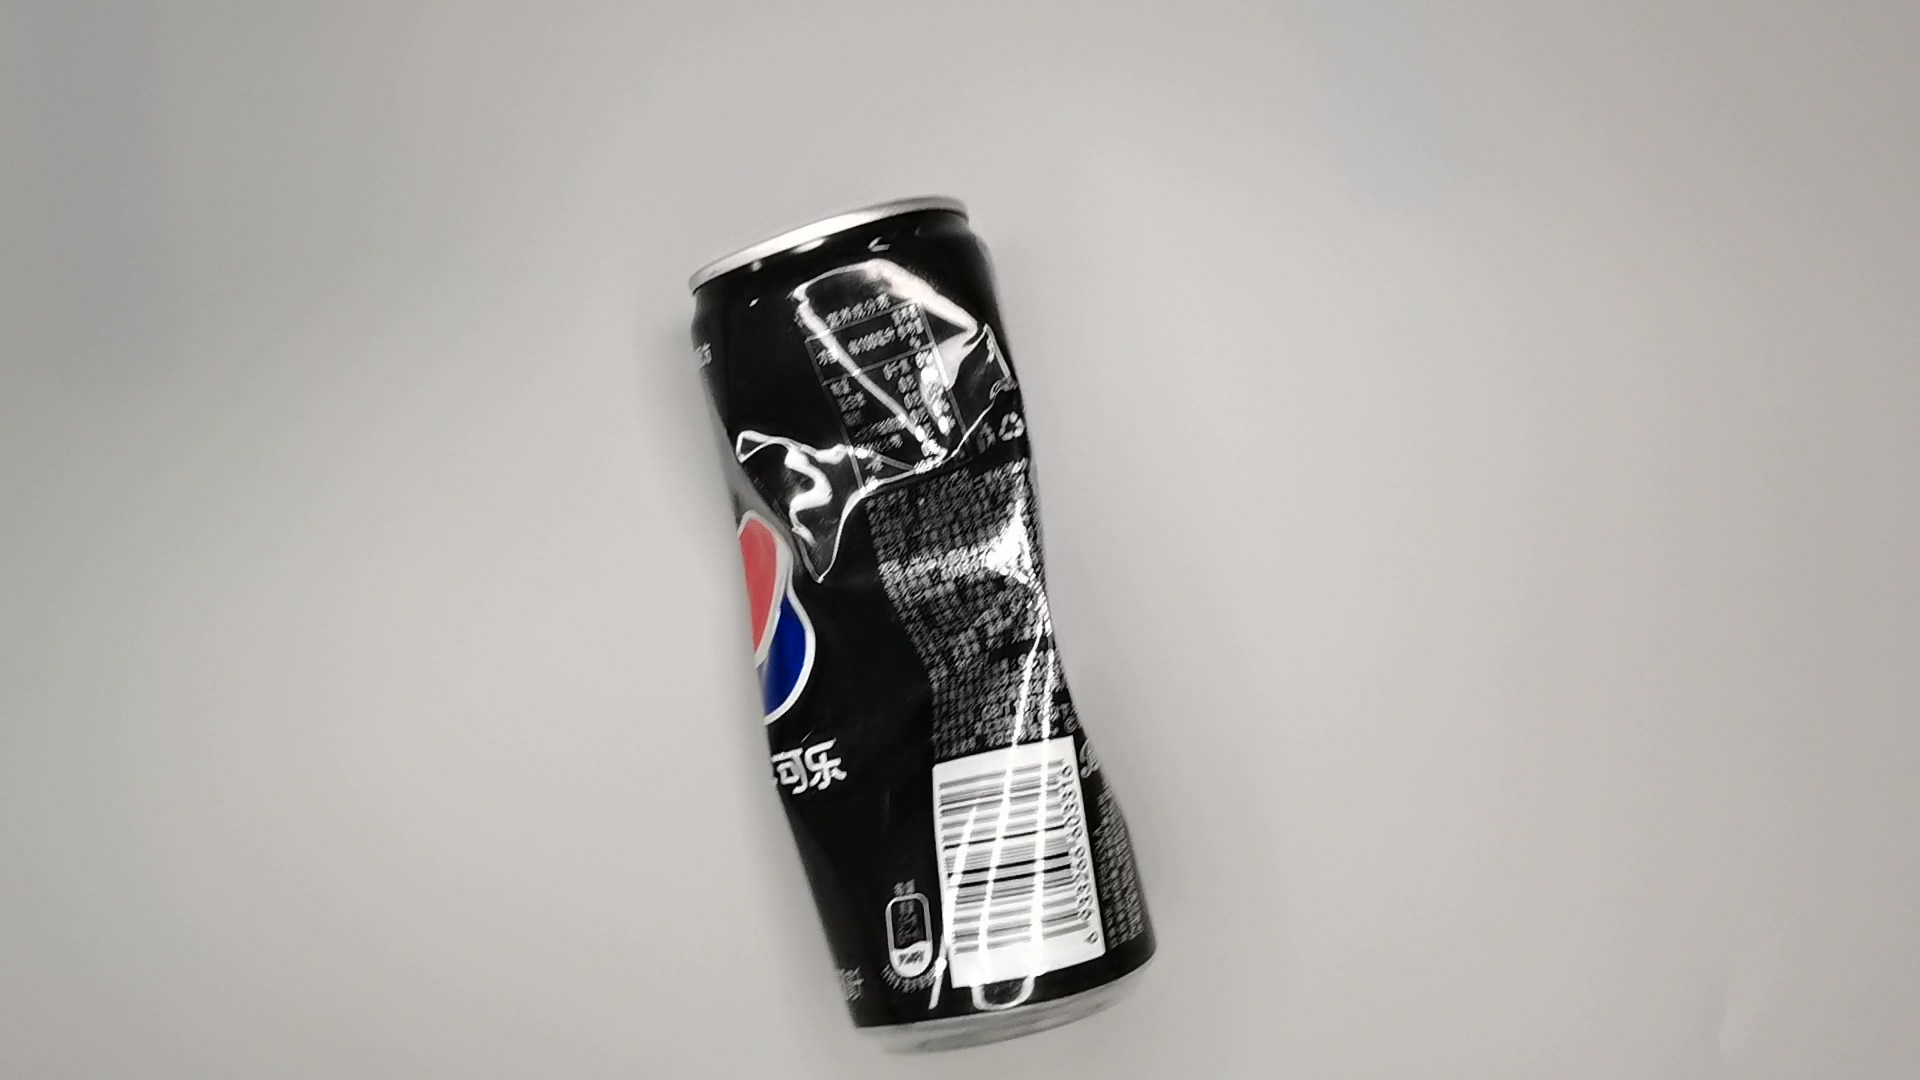can: (667, 193, 1178, 1048)
